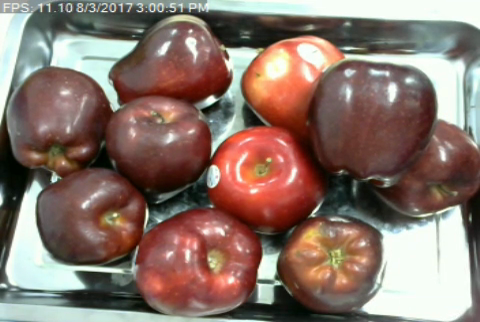Apple: (304, 56, 444, 180), (130, 203, 265, 320), (201, 121, 332, 233), (31, 166, 151, 270), (105, 11, 233, 108), (4, 65, 114, 177), (367, 110, 480, 218), (276, 210, 387, 317), (102, 90, 213, 196), (242, 33, 350, 132)
